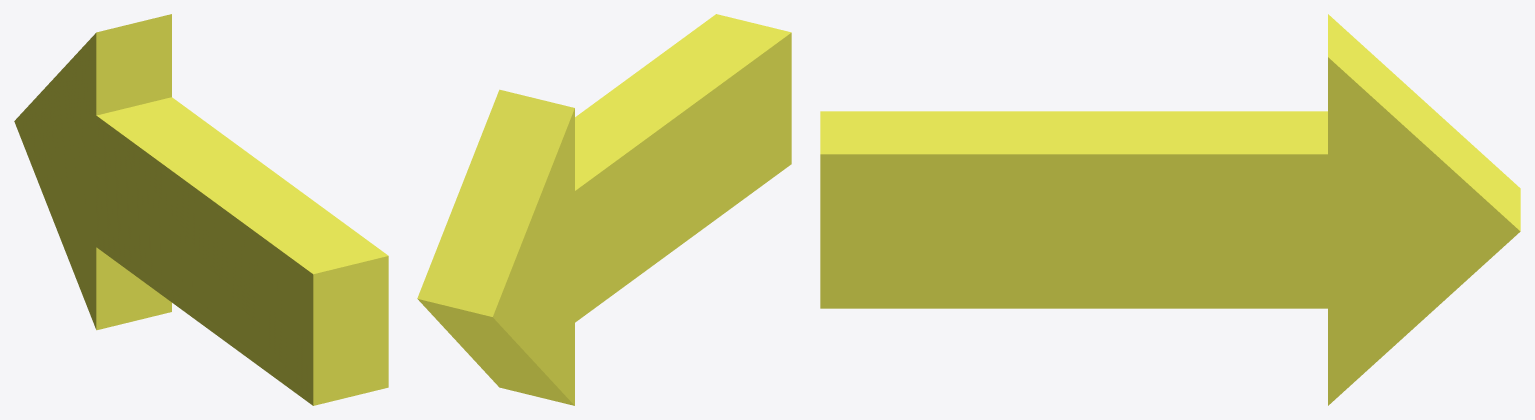
File: Arrow.fbx
3 renders of one model, left to right at view 1: azimuth 30°, elevation 25°; view 2: azimuth 150°, elevation 25°; view 3: azimuth 270°, elevation 25°, orthographic. The views are drawn at different scales.
Parts seen in each view (by area): view 1: Arrow; view 2: Arrow; view 3: Arrow.
Part boxes in pixels (x1=…): Arrow: x1=14, y1=14, x2=388, y2=405; Arrow: x1=417, y1=14, x2=791, y2=405; Arrow: x1=820, y1=14, x2=1520, y2=405.
Bounding box in the file's own units: 15 × 56.57 × 103.
